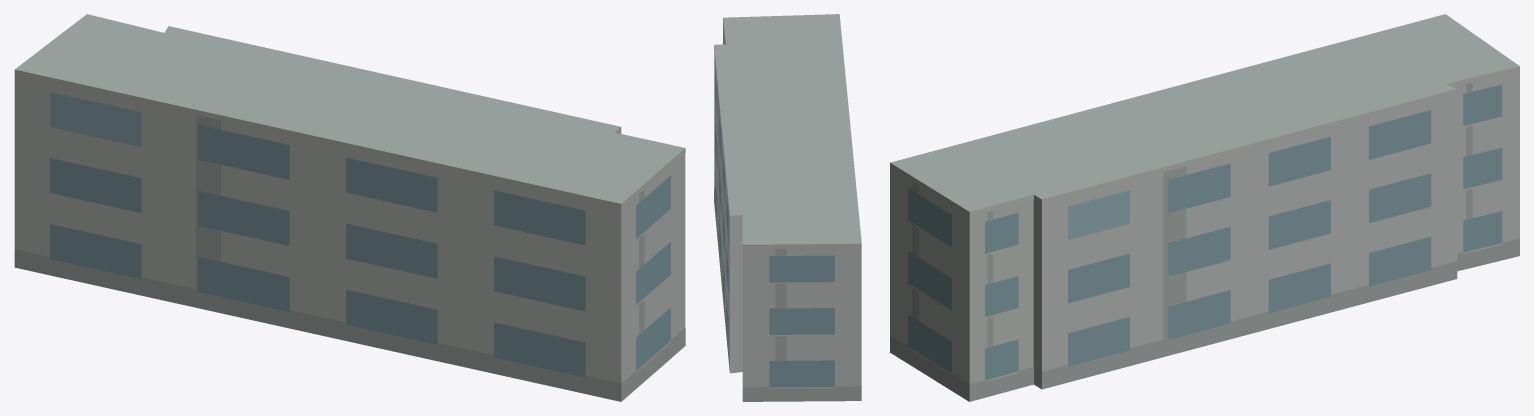
The model's file is survey-upis-32790204.glb.
3 renders of one model, left to right at view 1: azimuth 30°, elevation 25°; view 2: azimuth 150°, elevation 25°; view 3: azimuth 270°, elevation 25°, orthographic. The views are drawn at different scales.
Visible parts, largest first — view 1: survey-upis-32790204.tmp; view 2: survey-upis-32790204.tmp; view 3: survey-upis-32790204.tmp.
Part boxes in pixels (x1,y1,x2,y2): survey-upis-32790204.tmp: (14, 14, 685, 401); survey-upis-32790204.tmp: (714, 14, 861, 401); survey-upis-32790204.tmp: (890, 14, 1519, 401).
Bounding box in the file's own units: 20.46 × 9.15 × 27.5.
